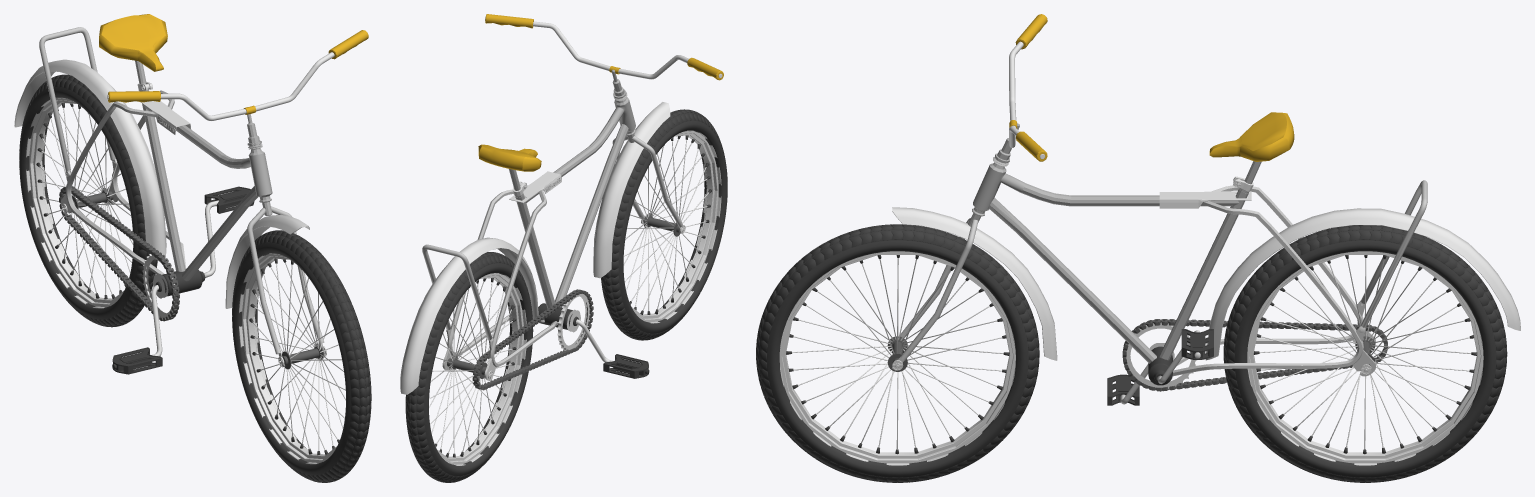
File: Bike.fbx
The picture shows the model from 3 angles, left to right: view 1: azimuth 30°, elevation 25°; view 2: azimuth 150°, elevation 25°; view 3: azimuth 270°, elevation 25°; orthographic projection. The views are drawn at different scales.
Visible parts, largest first — view 1: seat; view 2: seat; view 3: seat.
Boxes of the visible parts, left/top/right/bottom form: seat: left=14, top=14, right=371, bottom=482; seat: left=400, top=14, right=727, bottom=482; seat: left=756, top=14, right=1520, bottom=482.
Size of the model in its own units: 64.46 by 86.56 by 150.
